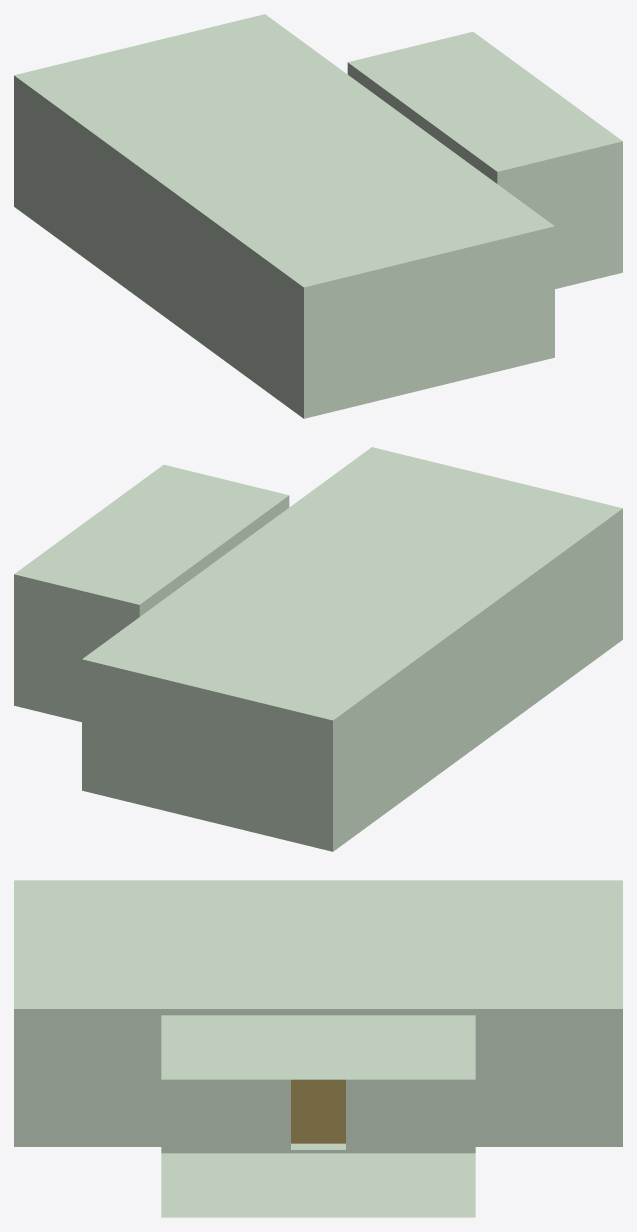
The model's file is Galer01.glb.
3 renders of one model, top to bottom at view 1: azimuth 30°, elevation 25°; view 2: azimuth 150°, elevation 25°; view 3: azimuth 270°, elevation 25°, orthographic. The views are drawn at different scales.
Parts seen in each view (by area): view 1: Cube; view 2: Cube; view 3: Cube, Cube.002.
Boxes of the visible parts, x1,y1,x2,y2 form: Cube: (14,14,622,418); Cube: (14,447,622,851); Cube: (14,880,622,1217); Cube.002: (291,1079,345,1143).
Size of the model in its own units: 31 by 10 by 40.
